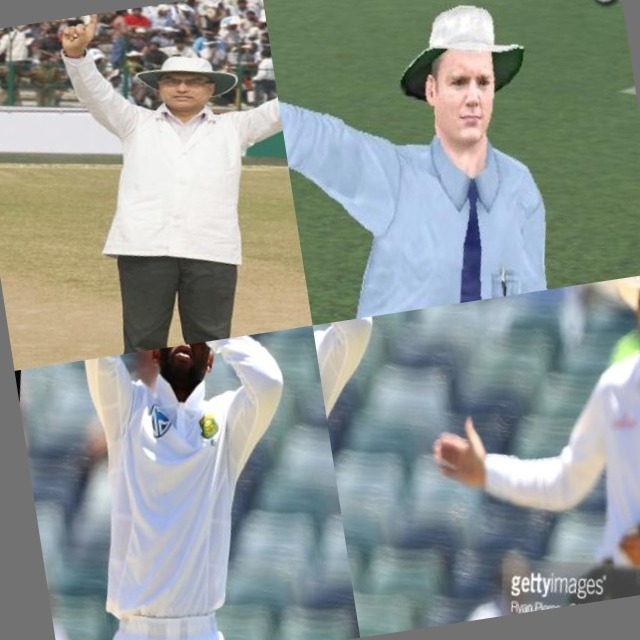No_Ball: (261, 0, 615, 325), (337, 272, 640, 634), (241, 325, 360, 640)
Six: (0, 0, 313, 371)
